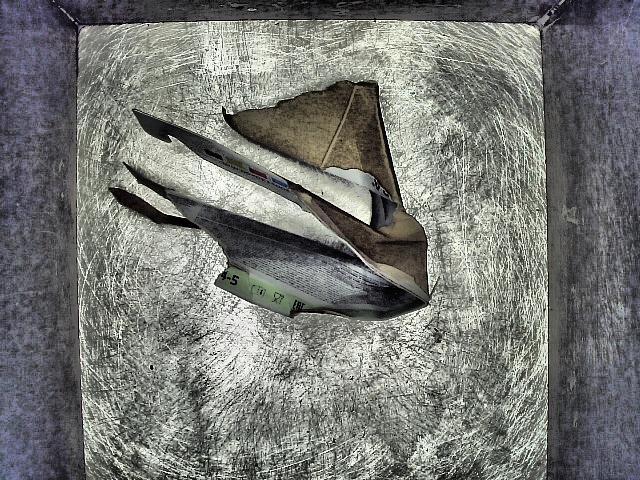Paper: (104, 75, 479, 361)
